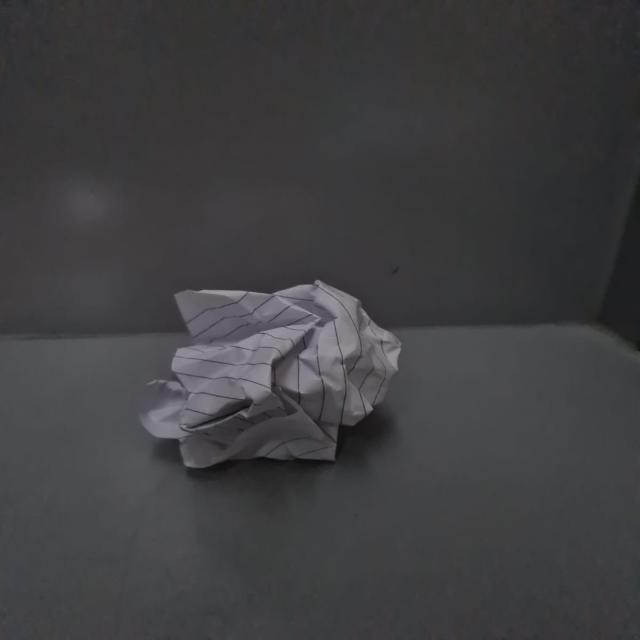cardboard paper: (141, 279, 399, 466)
